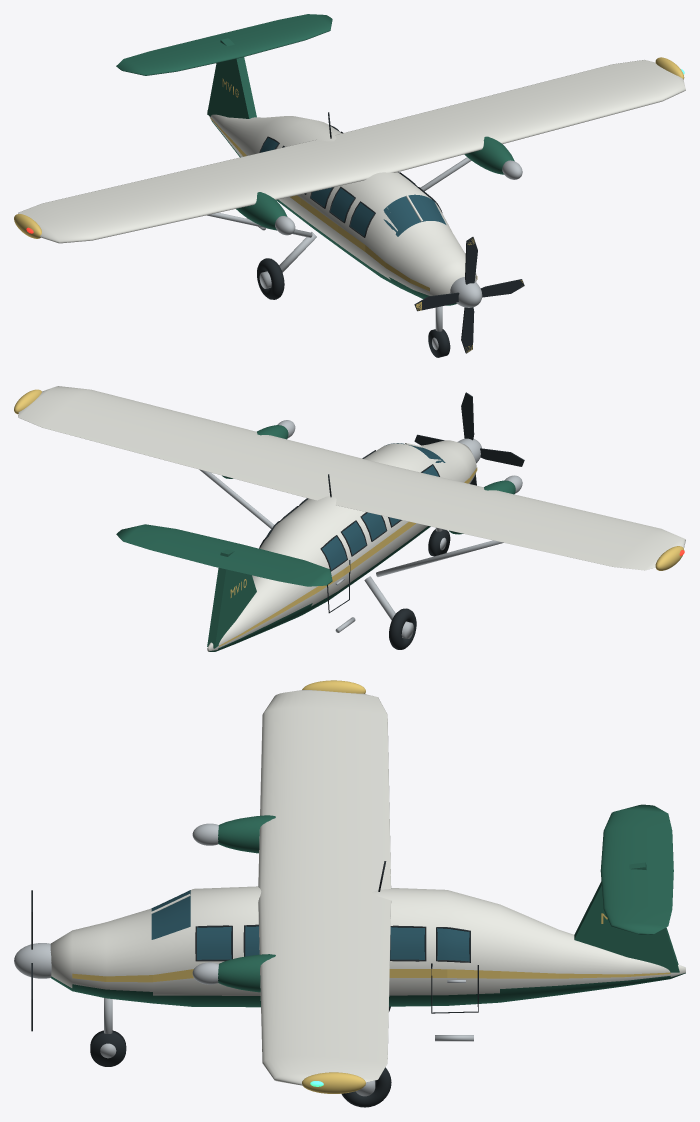
File: albatross_mv10.glb
3 views of the same model, one above another, from view 1: azimuth 30°, elevation 25°; view 2: azimuth 150°, elevation 25°; view 3: azimuth 270°, elevation 25° (orthographic). The views are drawn at different scales.
Parts seen in each view (by area): view 1: Albatross high wing, Ten-seat commuter fuselage, T-tail horizontal stabilizer, Swept T-tail fin, Flight deck windscreen, Gold cheatline, Wing turbine nacelle, Wing turbine nacelle.001, Albatross main tyre, Polished nose spinner; view 2: Albatross high wing, Ten-seat commuter fuselage, T-tail horizontal stabilizer, Swept T-tail fin, Gold cheatline, Albatross main tyre, Heavy wing strut, Heavy wing strut.001, Propeller blade, Propeller blade.003, Cabin window.005, Cabin window.004 (+2 smaller); view 3: Albatross high wing, Ten-seat commuter fuselage, T-tail horizontal stabilizer, Swept T-tail fin, Gold cheatline.001, Wing turbine nacelle.001, Wing turbine nacelle, Flight deck windscreen, Cabin window.006, Cabin window.010, Polished nose spinner, Gold winglet tip.001 (+3 smaller).
Part boxes in pixels (x1,y1,x2,y2): Albatross high wing: (18, 60, 685, 243); Ten-seat commuter fuselage: (207, 110, 476, 305); T-tail horizontal stabilizer: (116, 14, 332, 75); Swept T-tail fin: (207, 38, 256, 118); Flight deck windscreen: (383, 194, 446, 236); Gold cheatline: (210, 117, 429, 291); Wing turbine nacelle: (236, 192, 287, 230); Wing turbine nacelle.001: (464, 136, 514, 174); Albatross main tyre: (257, 258, 284, 299); Polished nose spinner: (450, 277, 482, 307); Albatross high wing: (18, 386, 685, 570); Ten-seat commuter fuselage: (207, 440, 476, 651); T-tail horizontal stabilizer: (116, 524, 332, 586); Swept T-tail fin: (207, 549, 256, 648); Gold cheatline: (219, 467, 477, 646); Albatross main tyre: (389, 608, 416, 649); Heavy wing strut: (376, 540, 503, 576); Heavy wing strut.001: (199, 469, 273, 528); Propeller blade: (461, 392, 474, 440); Propeller blade.003: (480, 448, 524, 466); Cabin window.005: (322, 536, 346, 569); Cabin window.004: (342, 521, 366, 554); Albatross high wing: (258, 690, 391, 1085); Ten-seat commuter fuselage: (50, 886, 685, 1007); T-tail horizontal stabilizer: (600, 804, 673, 934); Swept T-tail fin: (574, 862, 679, 972); Gold cheatline.001: (72, 969, 670, 982); Wing turbine nacelle.001: (218, 954, 275, 992); Wing turbine nacelle: (218, 815, 275, 853); Flight deck windscreen: (151, 890, 190, 939); Cabin window.006: (197, 926, 231, 959); Cabin window.010: (390, 927, 424, 959); Polished nose spinner: (14, 943, 51, 978); Gold winglet tip.001: (302, 1072, 365, 1093).
Bounding box in the file's own units: 15.29 × 3.65 × 10.84.
